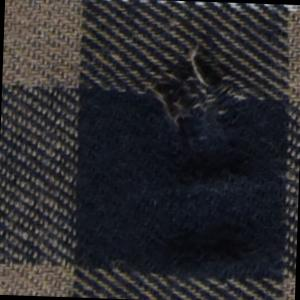Damage: (128, 34, 273, 209)
